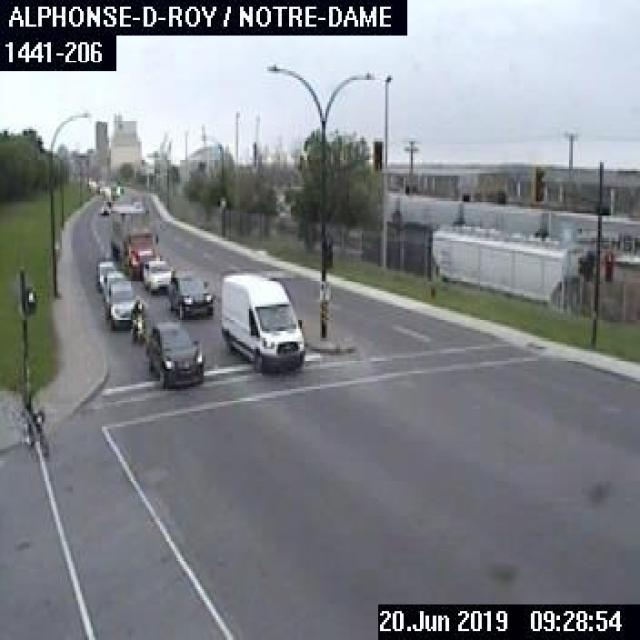cyclist: (20, 387, 44, 453)
vehicle: (216, 271, 304, 371), (106, 200, 158, 276), (148, 324, 206, 384), (165, 267, 215, 320), (101, 267, 134, 328), (139, 254, 171, 292), (127, 294, 147, 345), (93, 260, 115, 292), (95, 200, 109, 217)
